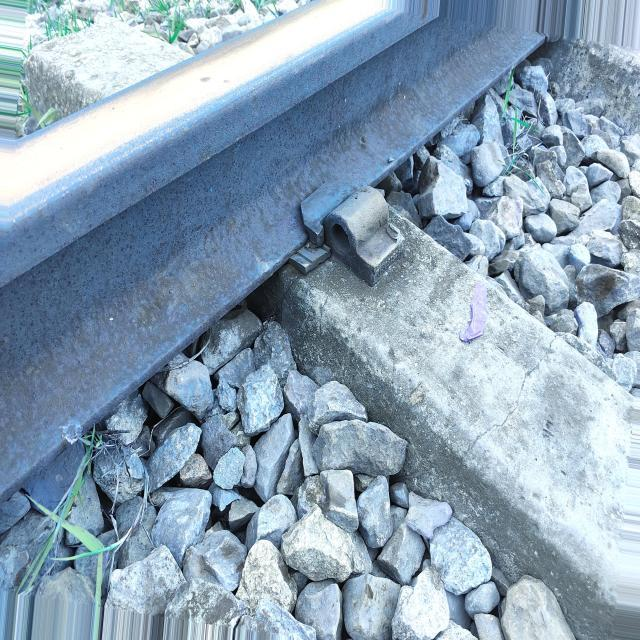Missing Fastener: (296, 181, 413, 304)
